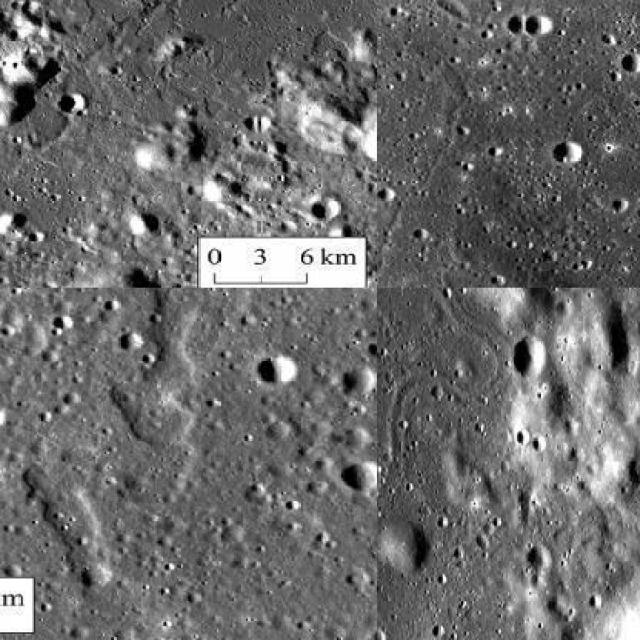rille: (0, 0, 249, 263), (19, 290, 206, 588), (377, 287, 515, 638), (377, 59, 472, 283)
